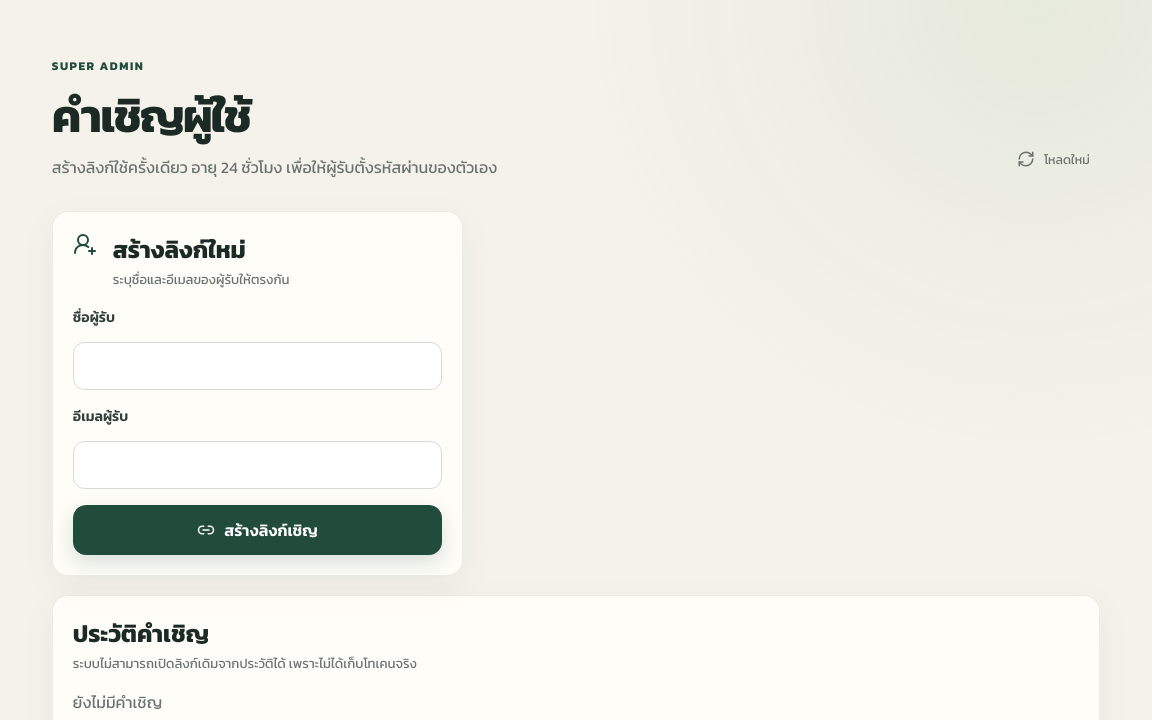
Test: InvitationsPage › shows a Thai error when the email already has an account
This screenshot has width=1152, height=720.
Type "Existing" into the field labelled "ชื่อผู้รับ".
click(258, 366); type("Existing")  # box [73,342,442,390]
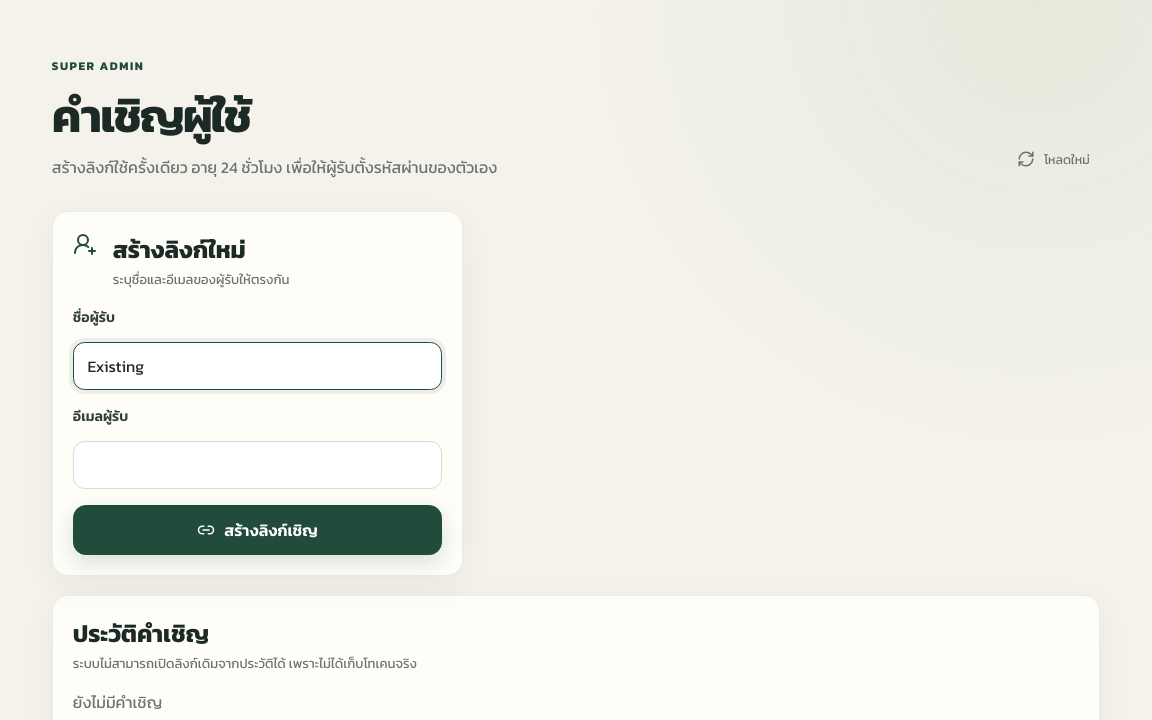
Type "existing@example.test" into the field labelled "อีเมลผู้รับ".
click(258, 464); type("existing@example.test")  # box [73,440,442,488]
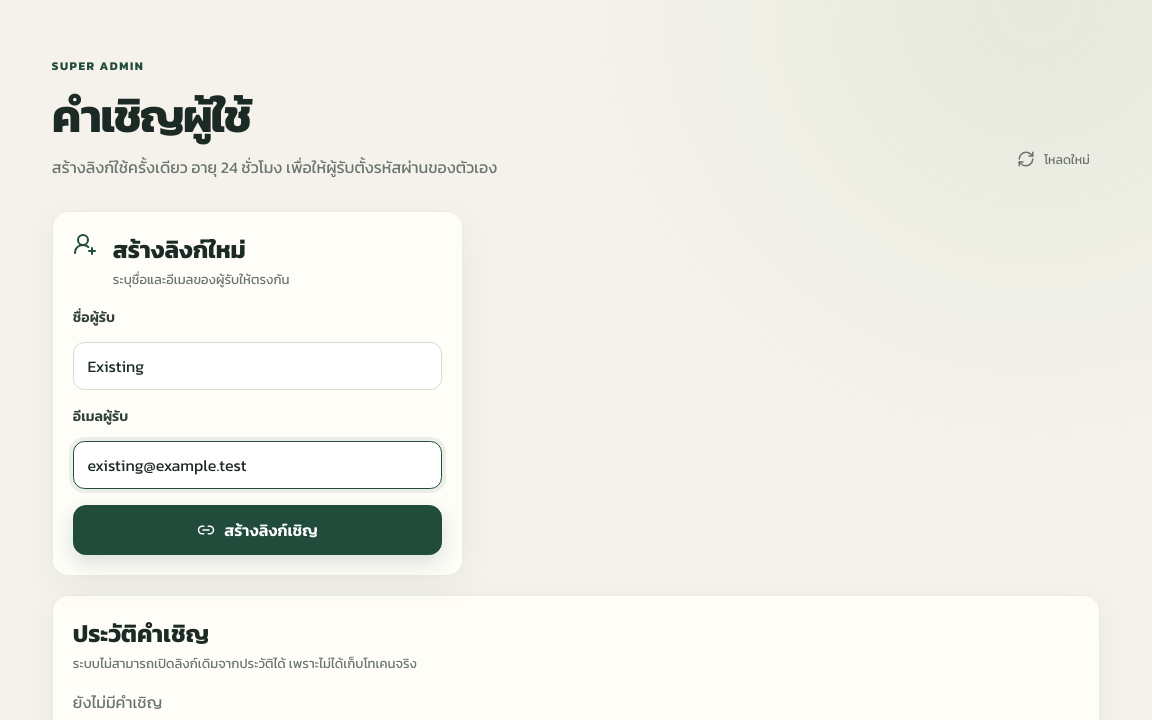
Click the button "สร้างลิงก์เชิญ".
click(258, 530)  # box [73,504,442,554]
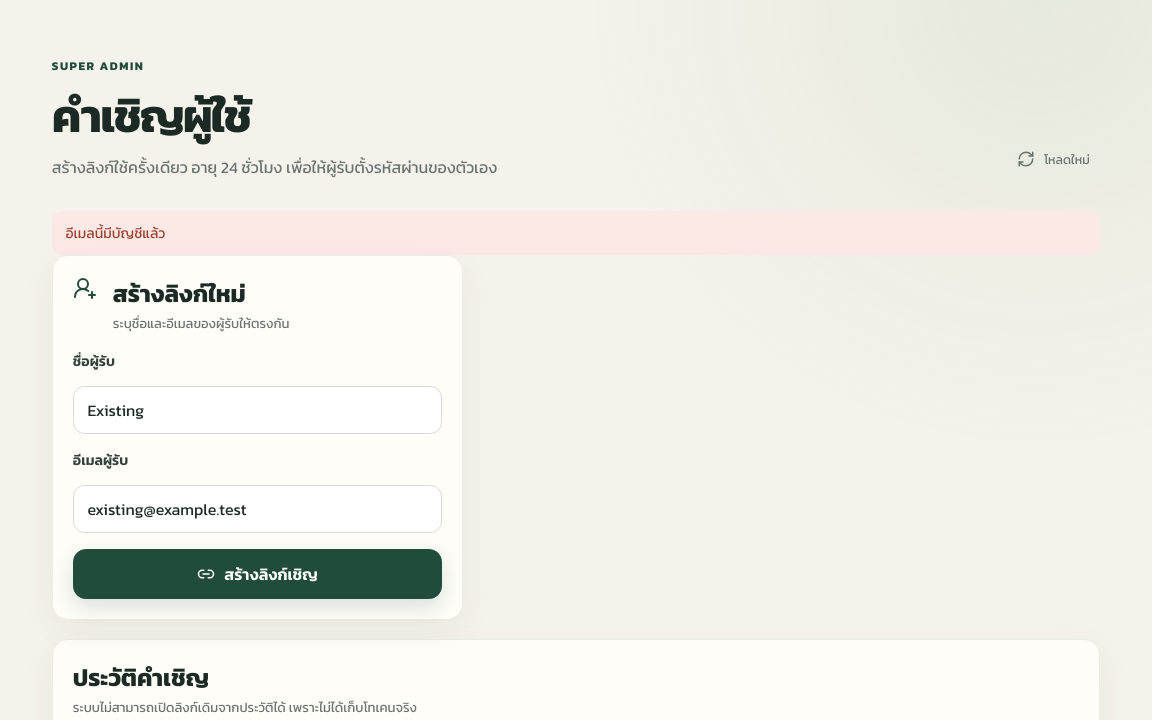
Result: the message reads "อีเมลนี้มีบัญชีแล้ว" at [65,223,165,244]
